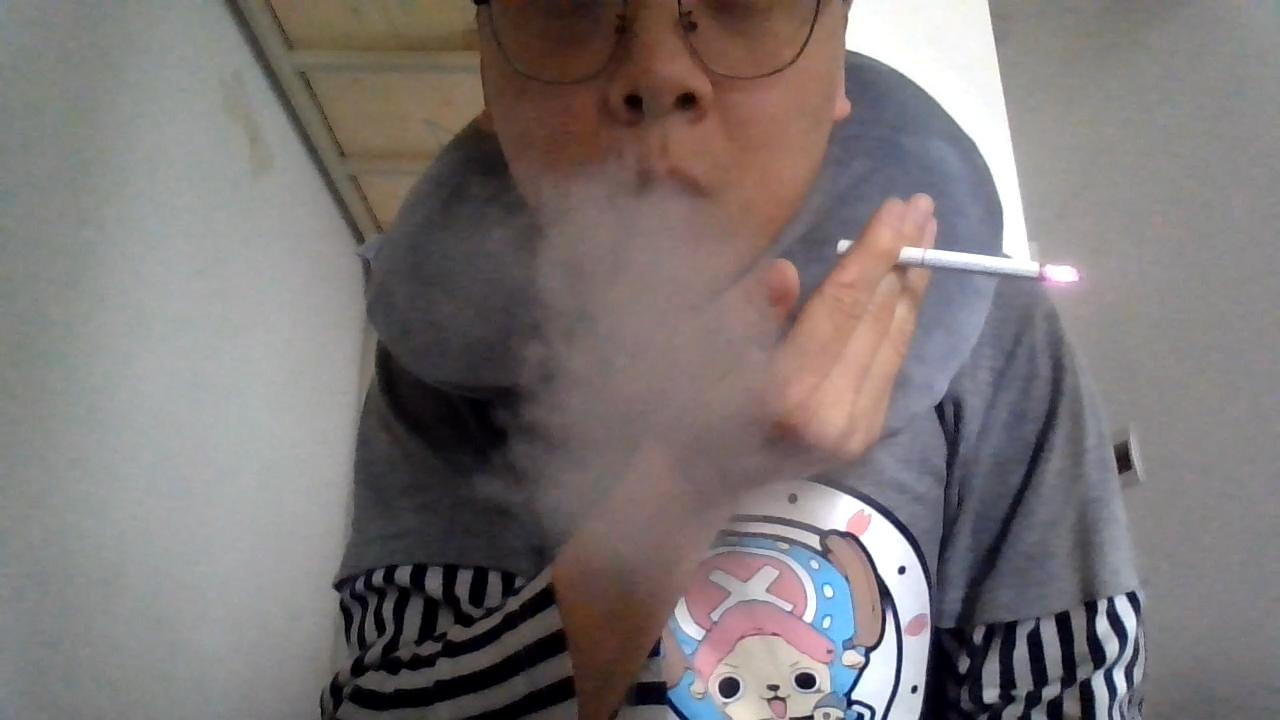yanwu: (506, 197, 775, 572)
